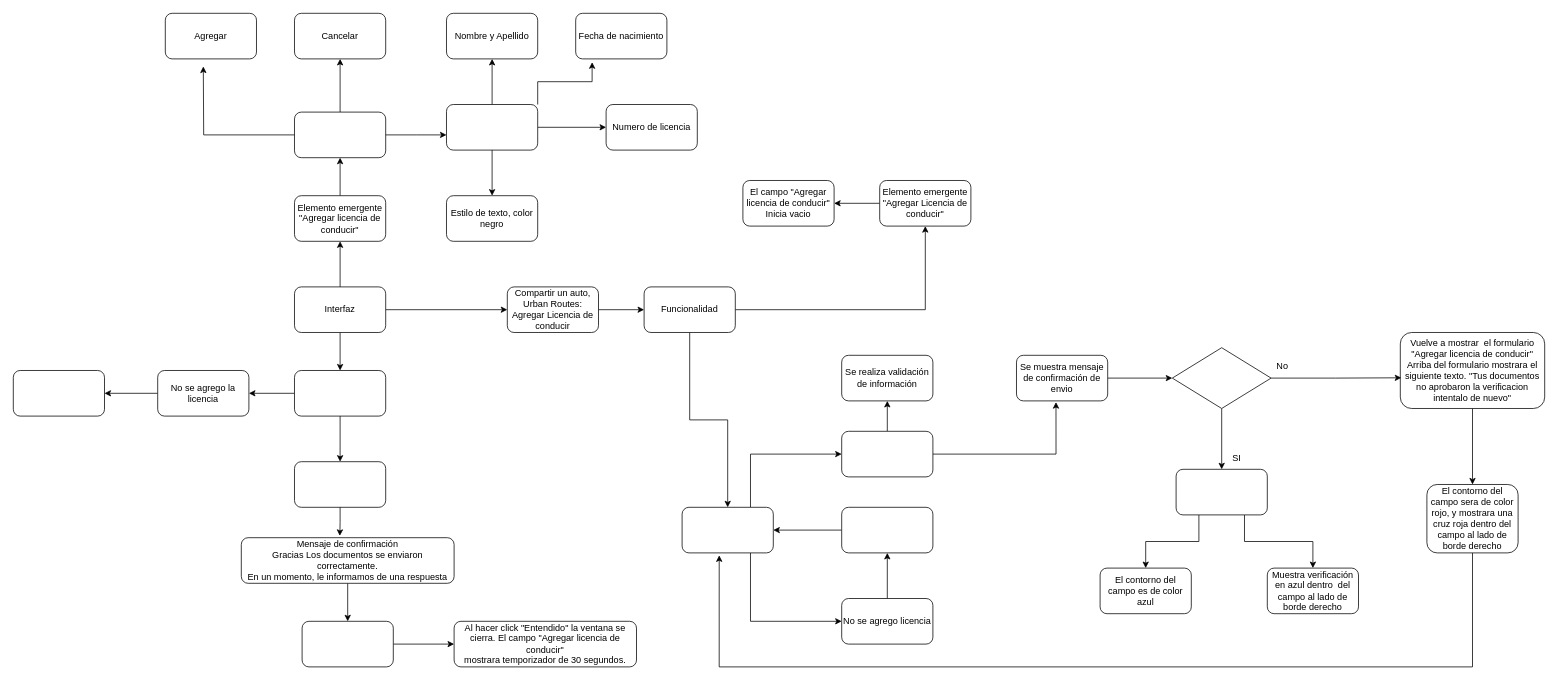
Image size: 1558x686. Some labels were removed from this diagram. Here are the shapes that lost their labels. From the top down, the centre of each, then its label:
pixel 340 134: Botones
pixel 492 127: Campos
pixel 58 393: Usuario no puede reservar un auto
pixel 340 393: Boton Agregar licencia de conducir
pixel 1221 377: Se aprueba la verificación?
pixel 887 454: Se agrega licencia
pixel 340 484: Se agrego licencia
pixel 1221 492: Los campos se bloquean, y no se puede editar la información
pixel 727 530: Boton "Agregar licencia de conducir"
pixel 887 530: No es posible reservar un auto
pixel 347 644: Boton "Entendido" ubicado debajo del mensaje
